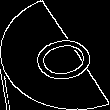O_NE: (12, 25, 98, 85)
